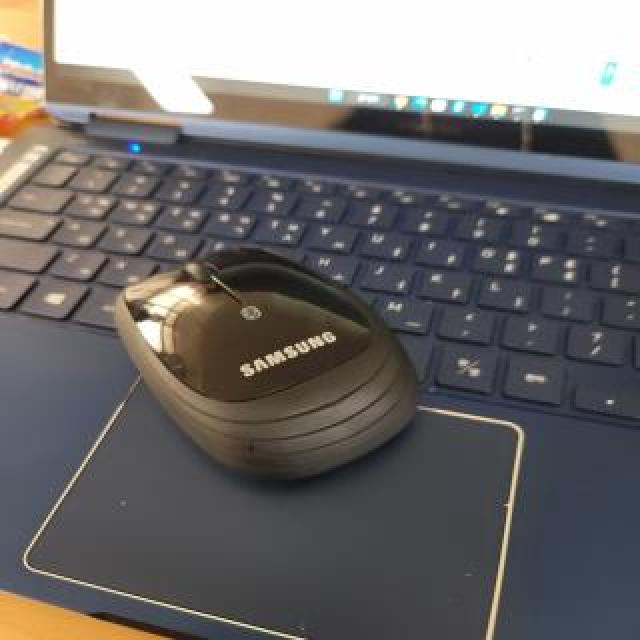laptop_computer: (10, 10, 640, 640)
mouse: (116, 244, 394, 484)
